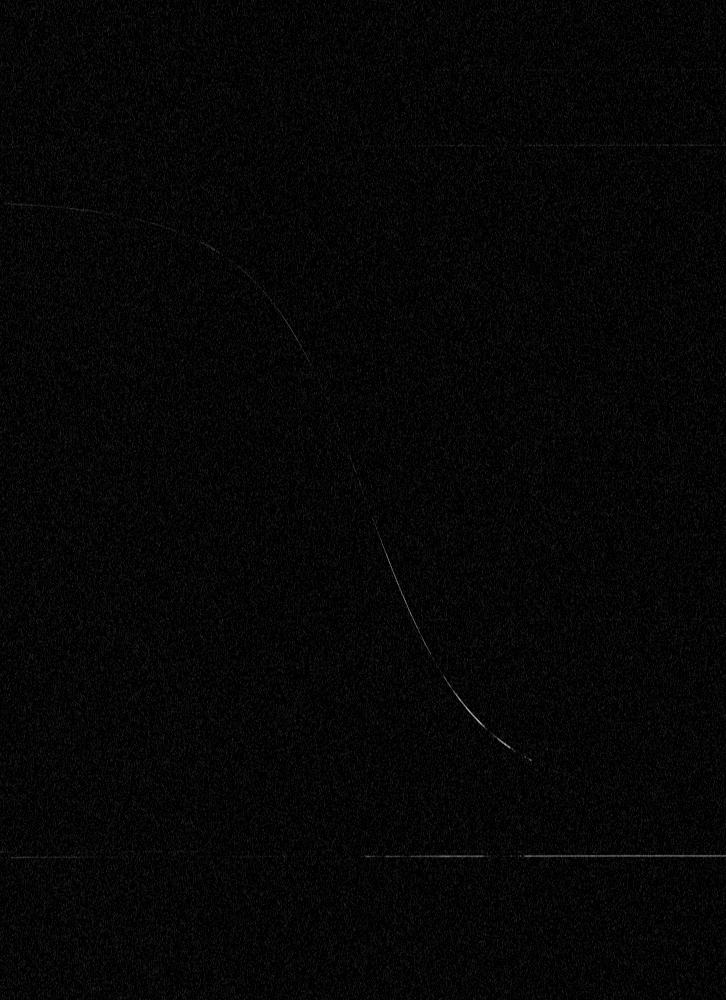signal: (0, 0, 725, 999)
